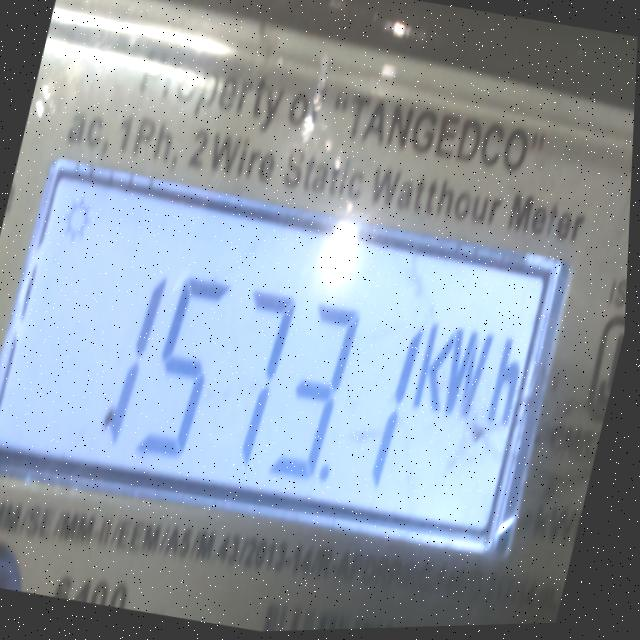.: (318, 450, 342, 493)
1: (91, 255, 188, 453), (355, 314, 437, 504)
3: (265, 285, 377, 498)
5: (137, 266, 246, 480)
7: (206, 279, 310, 493)
